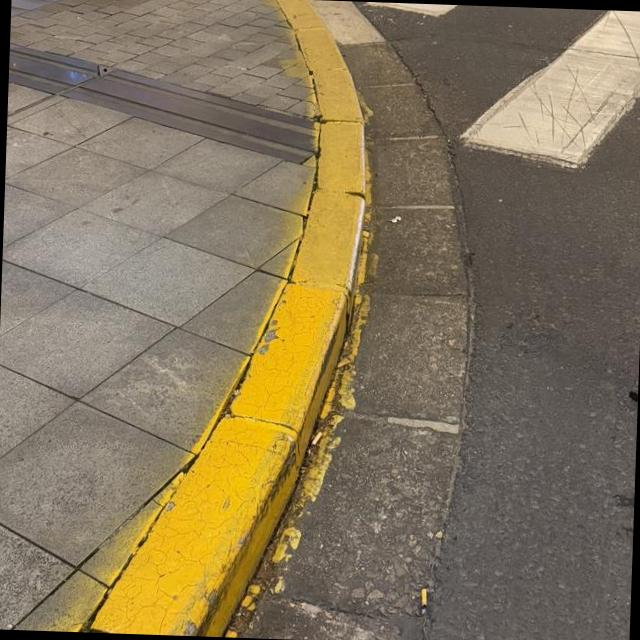curb: (91, 0, 365, 636)
